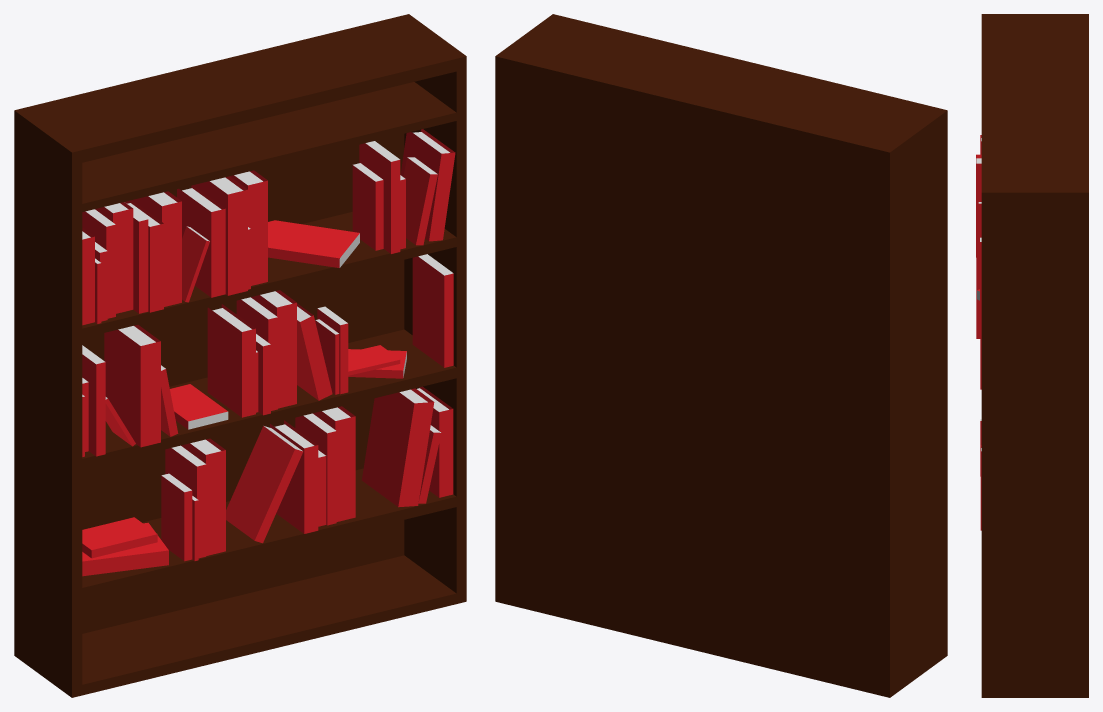
Rendered from Bookcase.fbx.
The picture shows the model from 3 angles, left to right: view 1: azimuth 30°, elevation 25°; view 2: azimuth 150°, elevation 25°; view 3: azimuth 270°, elevation 25°; orthographic projection. The views are drawn at different scales.
Parts seen in each view (by area): view 1: Bookcase, Book4.008, Book4.005, Book 5.009, Book1.004, Book 5.006, Book 5.002, Book1.002, Book4.002, Book1.006, Book1.003, Book4.007 (+30 smaller); view 2: Bookcase; view 3: Bookcase, Book4.002, Book4.005.
Part boxes in pixels (left/top/right/bottom): Bookcase: left=14, top=14, right=466, bottom=697; Book4.008: left=361, top=388, right=434, bottom=507; Book4.005: left=104, top=325, right=160, bottom=447; Book 5.009: left=226, top=426, right=303, bottom=543; Book1.004: left=207, top=304, right=255, bottom=417; Book 5.006: left=412, top=254, right=453, bottom=367; Book 5.002: left=268, top=220, right=359, bottom=267; Book1.002: left=177, top=185, right=225, bottom=297; Book4.002: left=193, top=176, right=247, bottom=295; Book1.006: left=270, top=420, right=318, bottom=533; Book1.003: left=400, top=129, right=455, bottom=241; Book4.007: left=181, top=438, right=225, bottom=555; Bookcase: left=495, top=14, right=947, bottom=697; Bookcase: left=981, top=14, right=1088, bottom=697; Book4.002: left=976, top=154, right=981, bottom=257; Book4.005: left=976, top=257, right=980, bottom=338.
Bounding box in the file's own units: 98.47 × 130 × 26.27.
